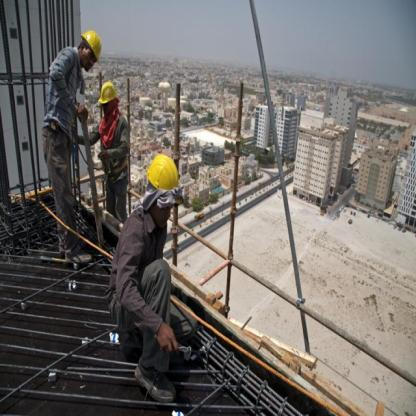person: (102, 151, 202, 400), (34, 19, 104, 279), (82, 76, 134, 221)
yellow-helm: (141, 149, 187, 195), (75, 23, 104, 68), (92, 78, 120, 107)
